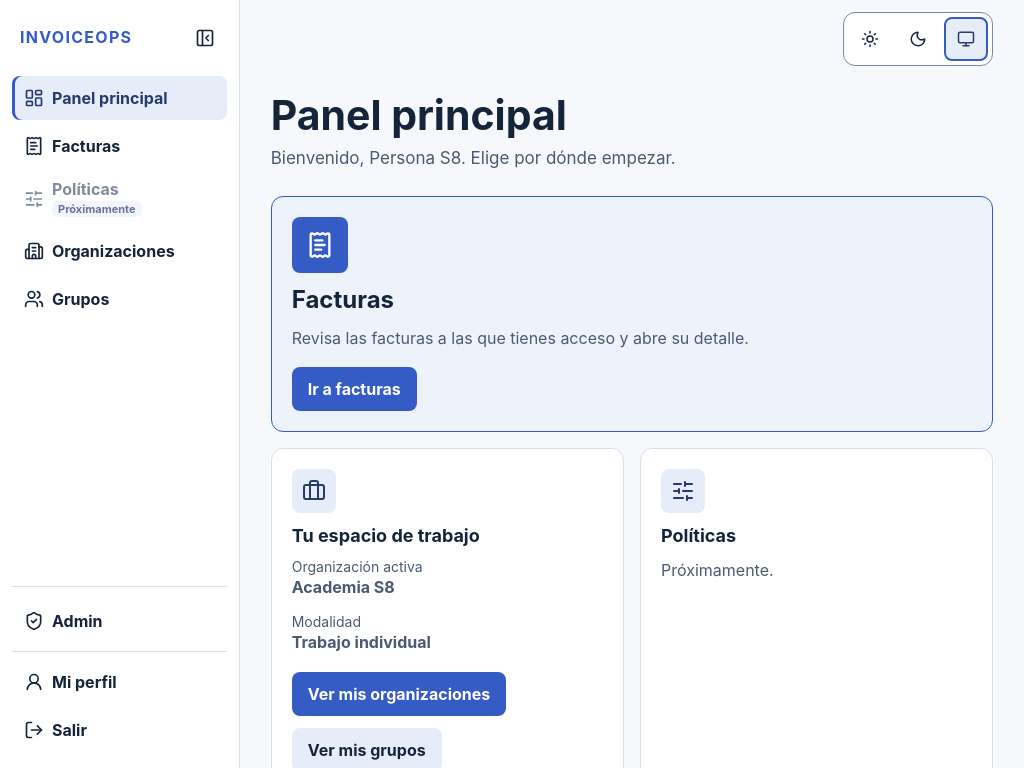
APP12 S8 global acceptance characterization › mounts the organization and group details with valid accessible references
This screenshot has width=1024, height=768.
Expected: the text "Bienvenido, Persona S8. Elige por dónde empezar." is shown, [271,148,676,168]
Step 1. Click the link "Organizaciones" → (99, 252), box [24,242,175,262]
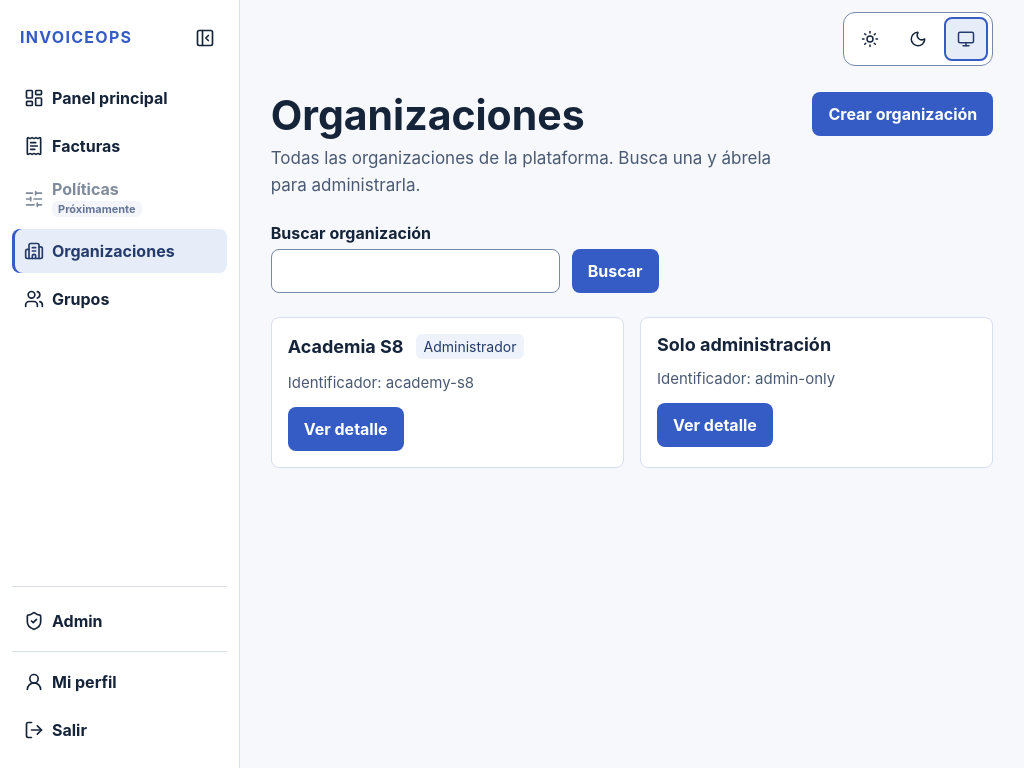
Expected: the heading "Organizaciones" is shown, [271,90,585,140]
Step 2. Click the link with aria-label "Ver detalle de Academia S8" → (346, 429), box [288,407,404,451]
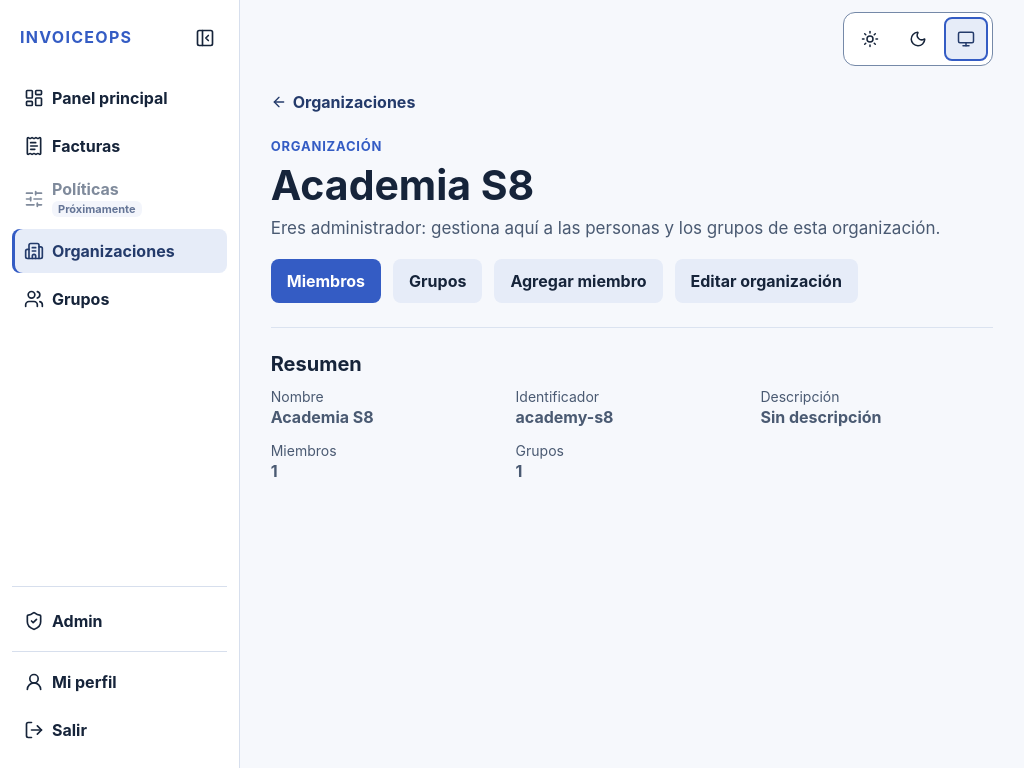
Expected: the heading "Resumen" is shown, [271,352,362,376]
Expected: the heading "Academia S8" is shown, [271,160,534,210]
Step 3. Click the link "Miembros" → (326, 281), box [271,259,381,303]
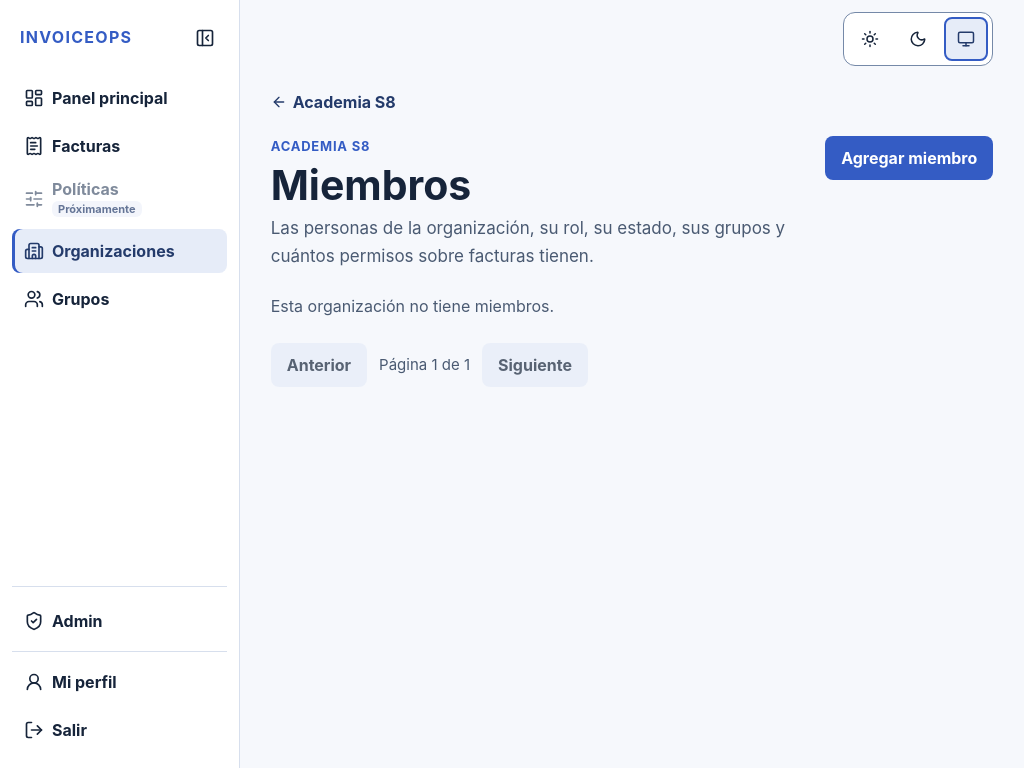
Expected: the number of headings is 1, [271,160,471,210]
Expected: the heading "Miembros" is shown, [271,160,471,210]
Expected: the text "Esta organización no tiene miembros." is shown, [271,296,554,316]
Step 4. Click the link "Grupos" → (67, 300), box [24,290,109,310]
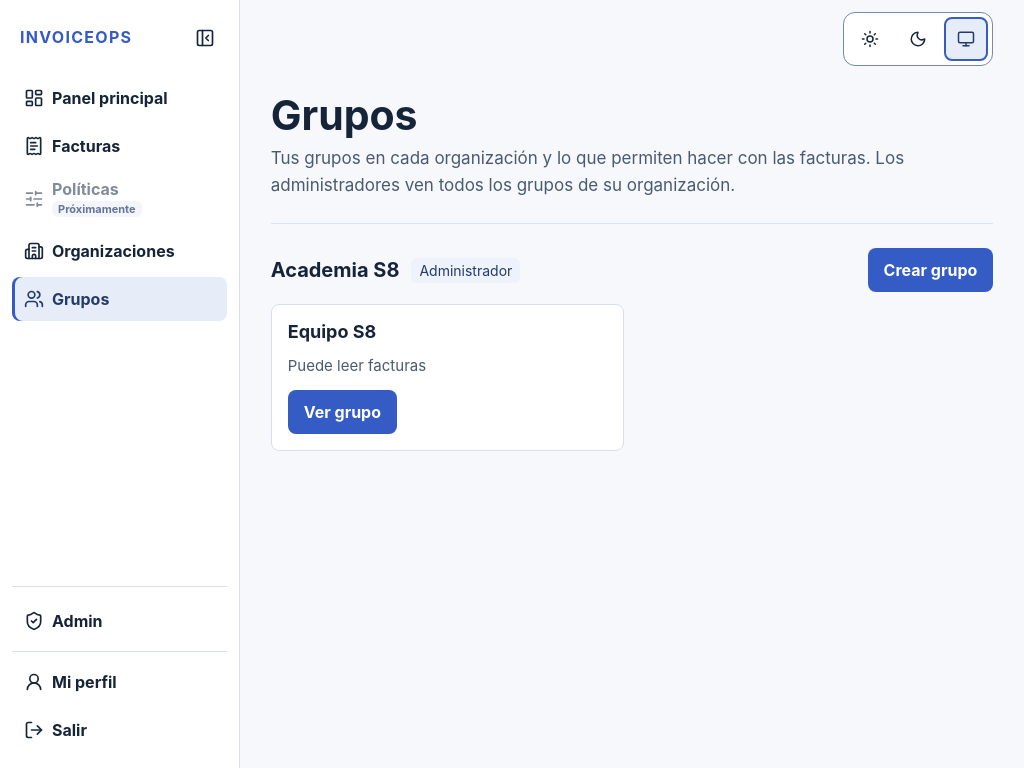
Expected: the heading "Grupos" is shown, [271,90,418,140]
Step 5. Click the link with aria-label "Ver grupo Equipo S8" → (342, 412), box [288,390,397,434]
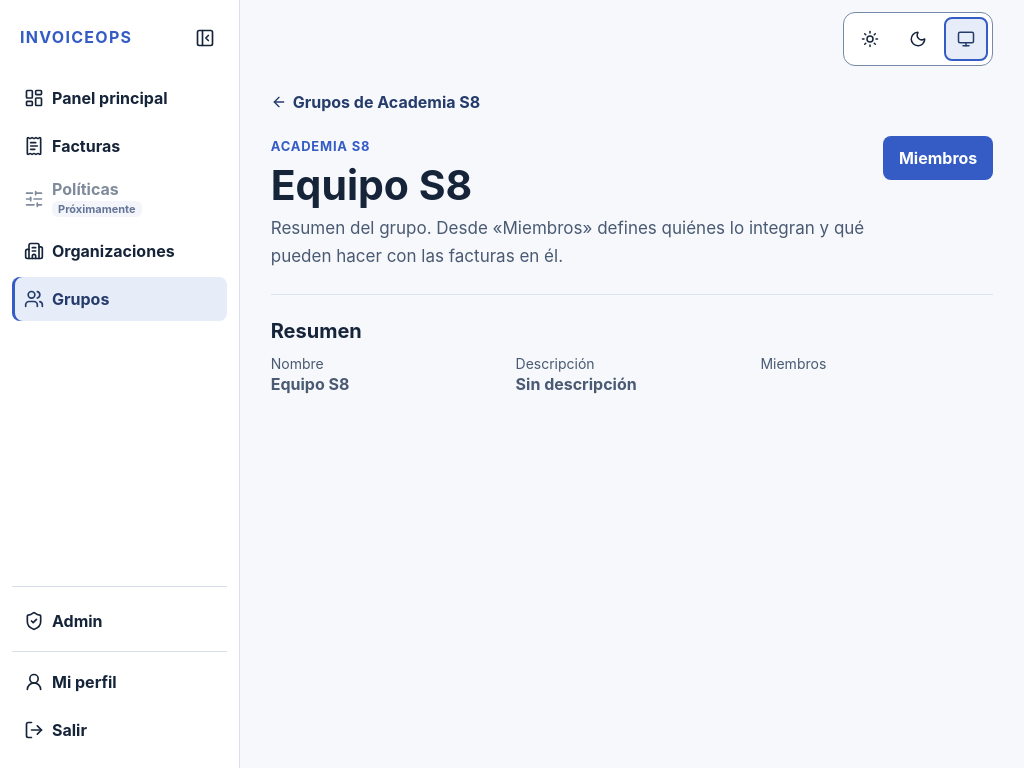
Expected: the heading "Resumen" is shown, [271,319,362,343]
Expected: the heading "Equipo S8" is shown, [271,160,472,210]
